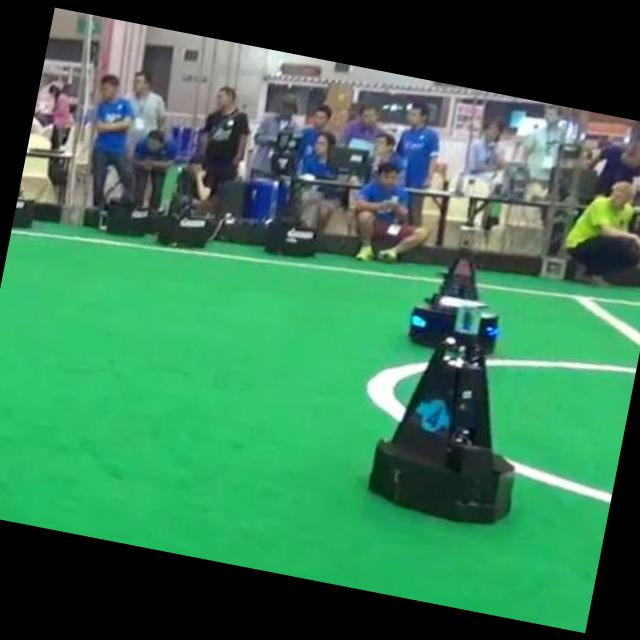robot: (370, 307, 516, 523), (410, 250, 500, 353)
